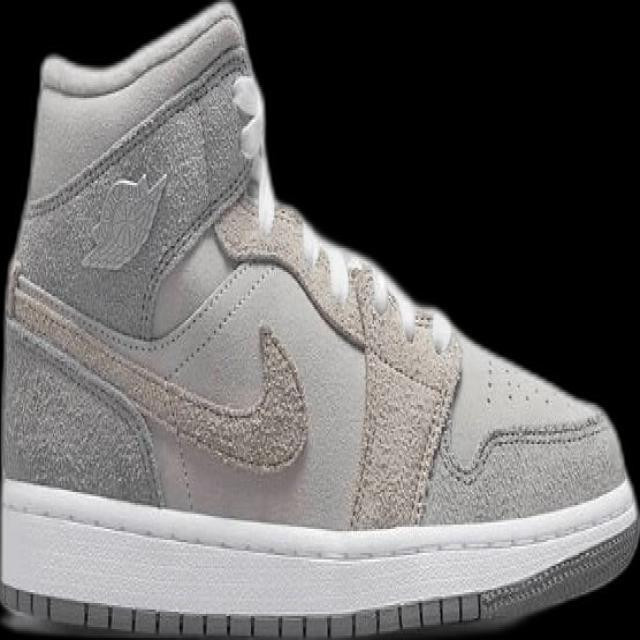J1_InsoleChar: (0, 0, 639, 639)
J1_ShoeLogo: (78, 168, 169, 272)
J1_StitchPattern: (5, 205, 611, 532), (0, 509, 639, 639), (218, 194, 464, 528), (6, 262, 310, 475), (344, 263, 463, 529), (0, 584, 485, 639), (438, 410, 607, 488), (228, 71, 278, 233)
